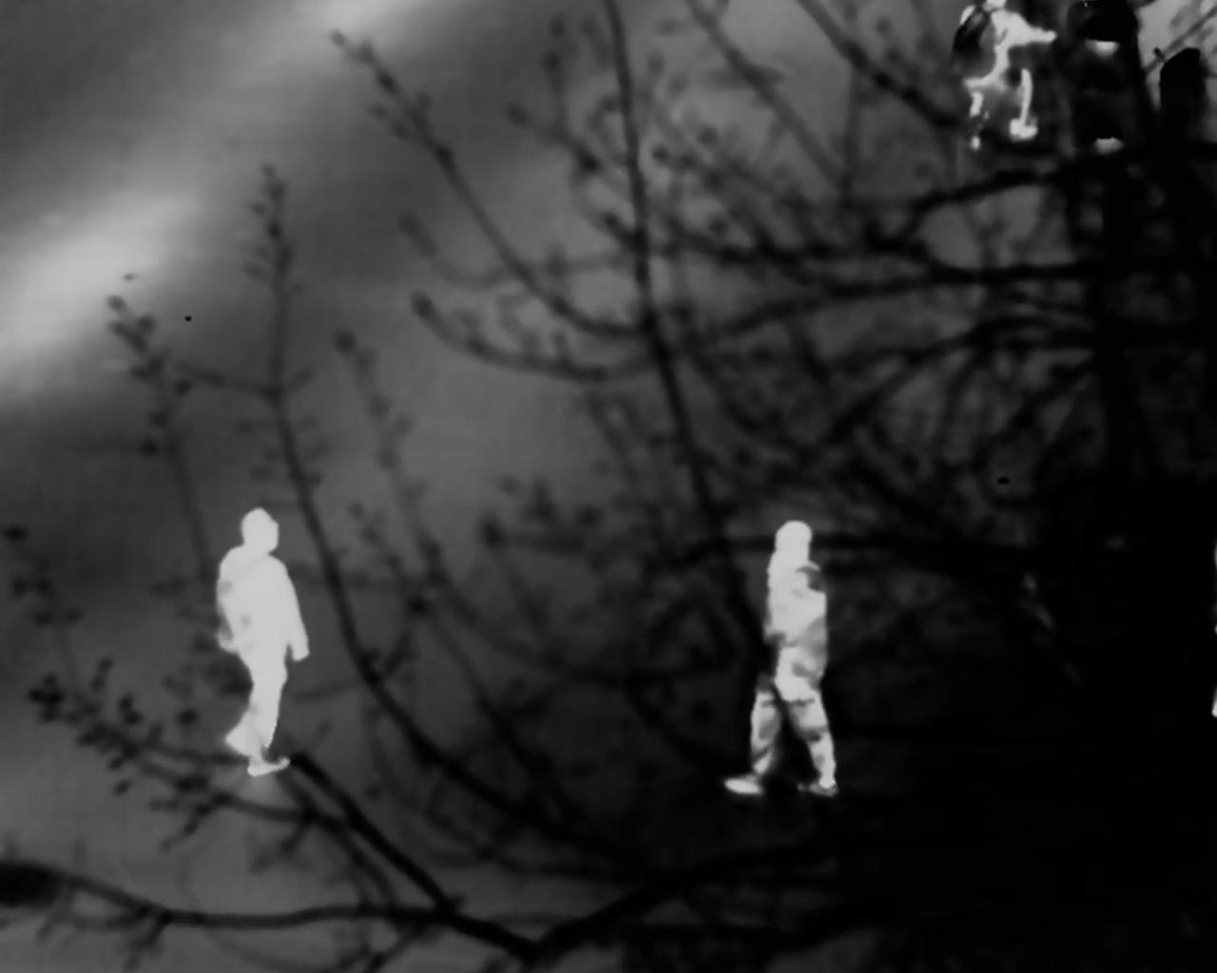person: (733, 520, 856, 809), (214, 505, 318, 791), (960, 4, 1044, 146)
